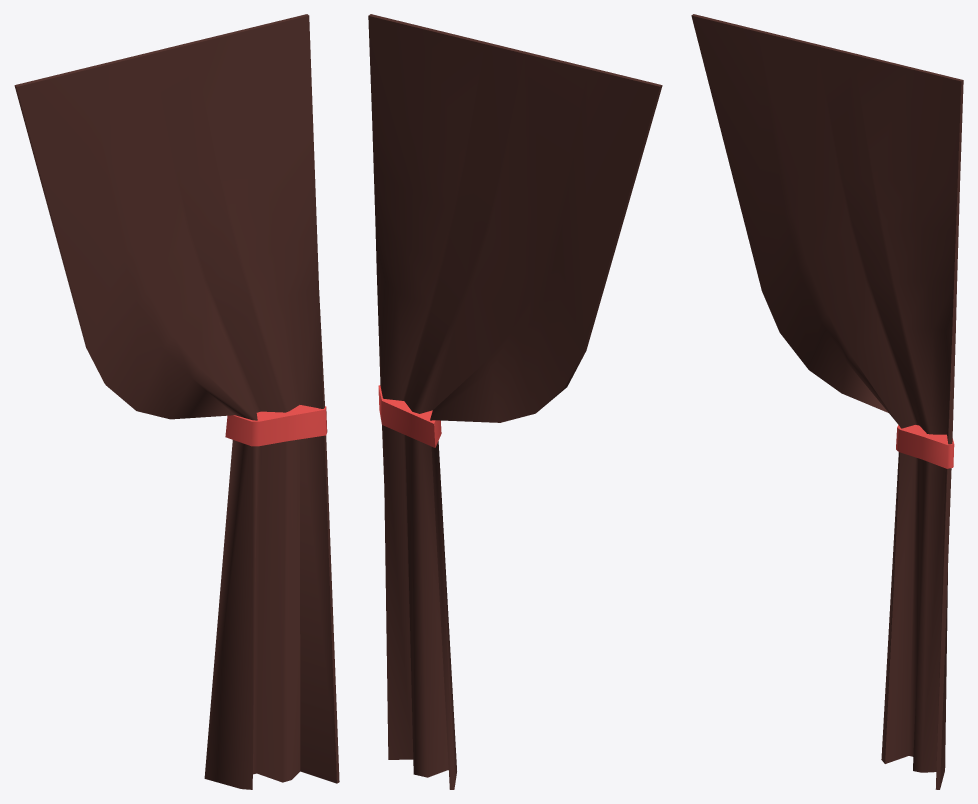
File: Curtains_011.glb
3 renders of one model, left to right at view 1: azimuth 30°, elevation 25°; view 2: azimuth 150°, elevation 25°; view 3: azimuth 330°, elevation 25°, orthographic. The views are drawn at different scales.
Visible parts, largest first — view 1: Curtains_011; view 2: Curtains_011; view 3: Curtains_011.
Part boxes in pixels (x1,y1,x2,y2): Curtains_011: [14, 14, 339, 789]; Curtains_011: [368, 14, 662, 789]; Curtains_011: [691, 14, 963, 789].
Bounding box in the file's own units: 1.12 × 2.7 × 0.2558.
Materials: 1 (1 with a texture image).
